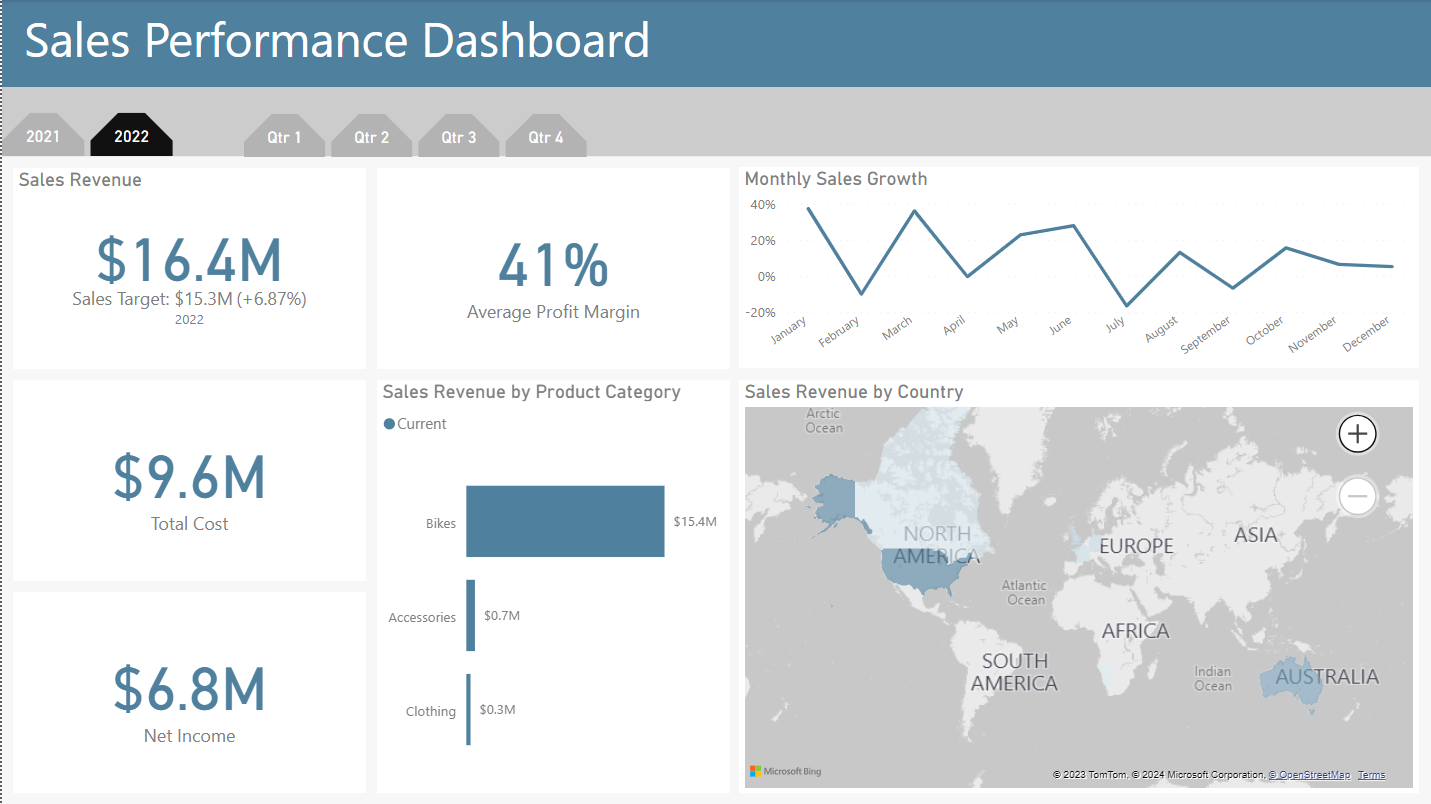

The dashboard page shown, as its layout file describes it:
{"tool":"powerbi","page":{"name":"Dashboard","canvas":[1280,720],"ordinal":0},"visuals":[{"type":"textbox","box":[0,0,1280,77.8],"z":0},{"type":"shape","box":[0,77.8,1280,62.2],"z":1000},{"type":"kpi","title":"Sales Revenue","fields":{"Indicator":["Measures_Table.Total Revenue"],"TrendLine":["Dim_Date.Year"],"Goal":["Measures_Table.Total Target"]},"box":[10,150,316,180],"z":2000},{"type":"advancedSlicerVisual","fields":{"Values":["Dim_Date.Date.Variation.Date Hierarchy.Year"]},"box":[0,96,233,134],"z":3000},{"type":"advancedSlicerVisual","fields":{"Values":["Dim_Date.Date.Variation.Date Hierarchy.Quarter"]},"box":[216.9,96.3,307.4,133.3],"z":4000},{"type":"lineChart","title":"Monthly Sales Growth","fields":{"Category":["Dim_Date.Date.Variation.Date Hierarchy.Month"],"Y":["Measures_Table.MOM_Sales"]},"box":[660.4,149.8,608.9,179.9],"z":5000},{"type":"card","fields":{"Values":["Measures_Table.Total Cost"]},"box":[10,340,316,180],"z":6000},{"type":"card","fields":{"Values":["Measures_Table.Total Profit"]},"box":[10,530,316,180],"z":7000},{"type":"filledMap","title":"Sales Revenue by Country","fields":{"Category":["Dim_SalesTerritory.SalesCountry"]},"box":[660.4,340.4,608.9,369.6],"z":8000},{"type":"card","fields":{"Values":["Measures_Table.Avg Profit Margin"]},"box":[336,150,316,180],"z":9000},{"type":"barChart","title":"Sales Revenue by Product Category","fields":{"Category":["Dim_Product.ProductCategory"],"Y":["Sum(Fact_Internet Sales.SalesAmount)"],"Series":["Dim_Product.ProductStatus"]},"box":[335.6,340.4,316.1,369.6],"z":10000}]}

Visuals, with their boxes in screenshot pixels (x1, y1, x2, y2), scaled from the page's 1280x720 canvas onto the 1431x804 screenshot:
textbox: (0, 0, 1430, 87)
shape: (0, 87, 1430, 156)
"Sales Revenue" kpi: (11, 168, 364, 368)
advancedSlicerVisual - Dim_Date.Date.Variation.Date Hierarchy.Year: (0, 107, 260, 257)
advancedSlicerVisual - Dim_Date.Date.Variation.Date Hierarchy.Quarter: (242, 108, 586, 256)
"Monthly Sales Growth" lineChart: (738, 167, 1419, 368)
card - Measures_Table.Total Cost: (11, 380, 364, 581)
card - Measures_Table.Total Profit: (11, 592, 364, 793)
"Sales Revenue by Country" filledMap: (738, 380, 1419, 793)
card - Measures_Table.Avg Profit Margin: (376, 168, 729, 368)
"Sales Revenue by Product Category" barChart: (375, 380, 729, 793)
